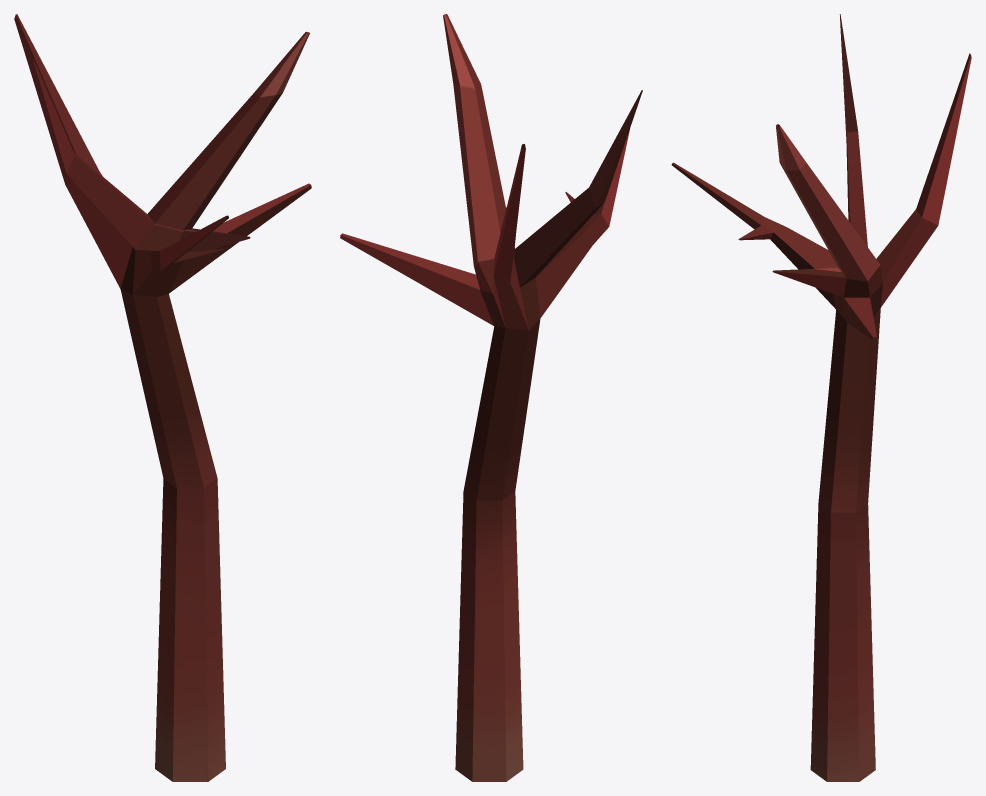
Rendered from arvore-queimada-2.fbx.
3 renders of one model, left to right at view 1: azimuth 30°, elevation 25°; view 2: azimuth 150°, elevation 25°; view 3: azimuth 270°, elevation 25°, orthographic. The views are drawn at different scales.
Parts seen in each view (by area): view 1: arvore-queimada-2; view 2: arvore-queimada-2; view 3: arvore-queimada-2.
Boxes of the visible parts, x1,y1,x2,y2 form: arvore-queimada-2: (14,14,311,781); arvore-queimada-2: (340,14,642,781); arvore-queimada-2: (671,14,971,781).
Size of the model in its own units: 298 by 719 by 286.
